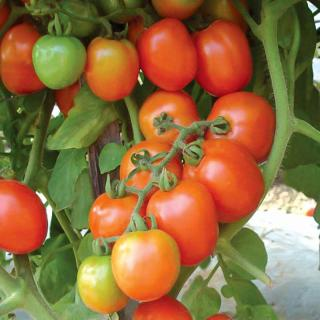Tomat: (110, 226, 187, 307), (205, 92, 277, 166), (193, 19, 254, 98), (137, 18, 199, 92), (1, 179, 49, 256), (85, 36, 141, 102), (31, 32, 88, 94)
